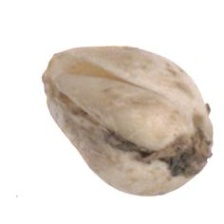L1: (173, 132, 213, 181), (41, 49, 66, 99)
L2: (42, 44, 215, 196)
